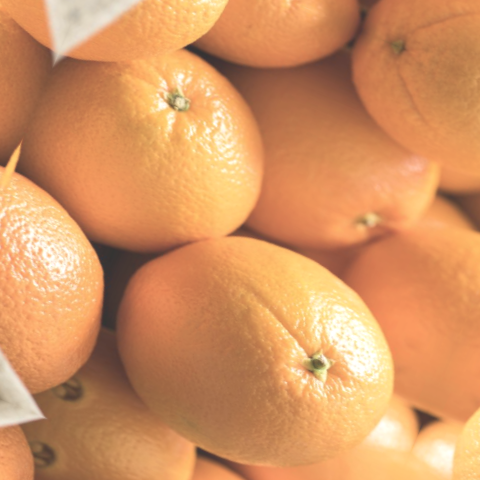orange: (67, 181, 457, 480), (0, 0, 332, 313)
